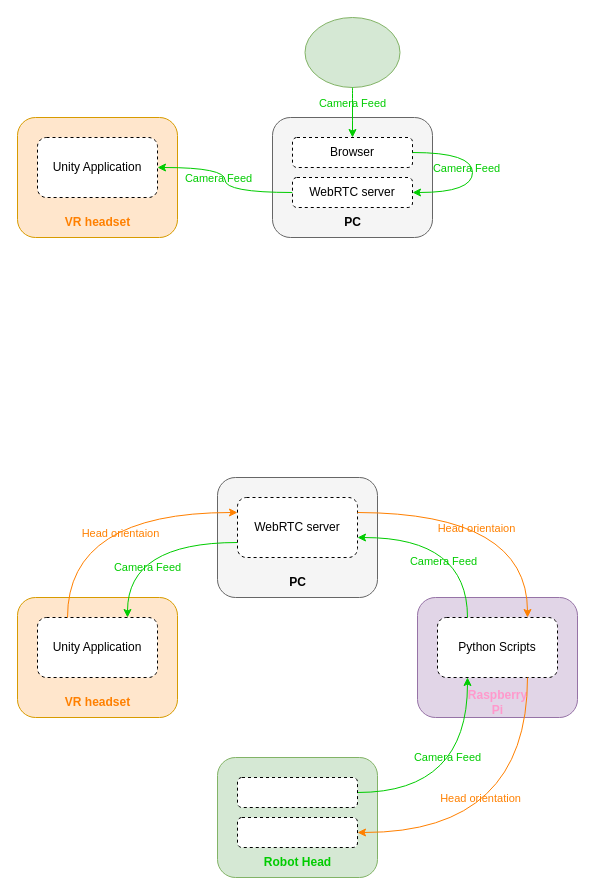
The diagram is 595 pixels wide and 895 high, and some of its shapes have lost their labels. Here are the shapes that lost their labels. From the top down, the box of each, then its label:
(304, 16, 400, 88): Webcam
(236, 776, 358, 808): Cameras
(236, 816, 358, 848): Servos
